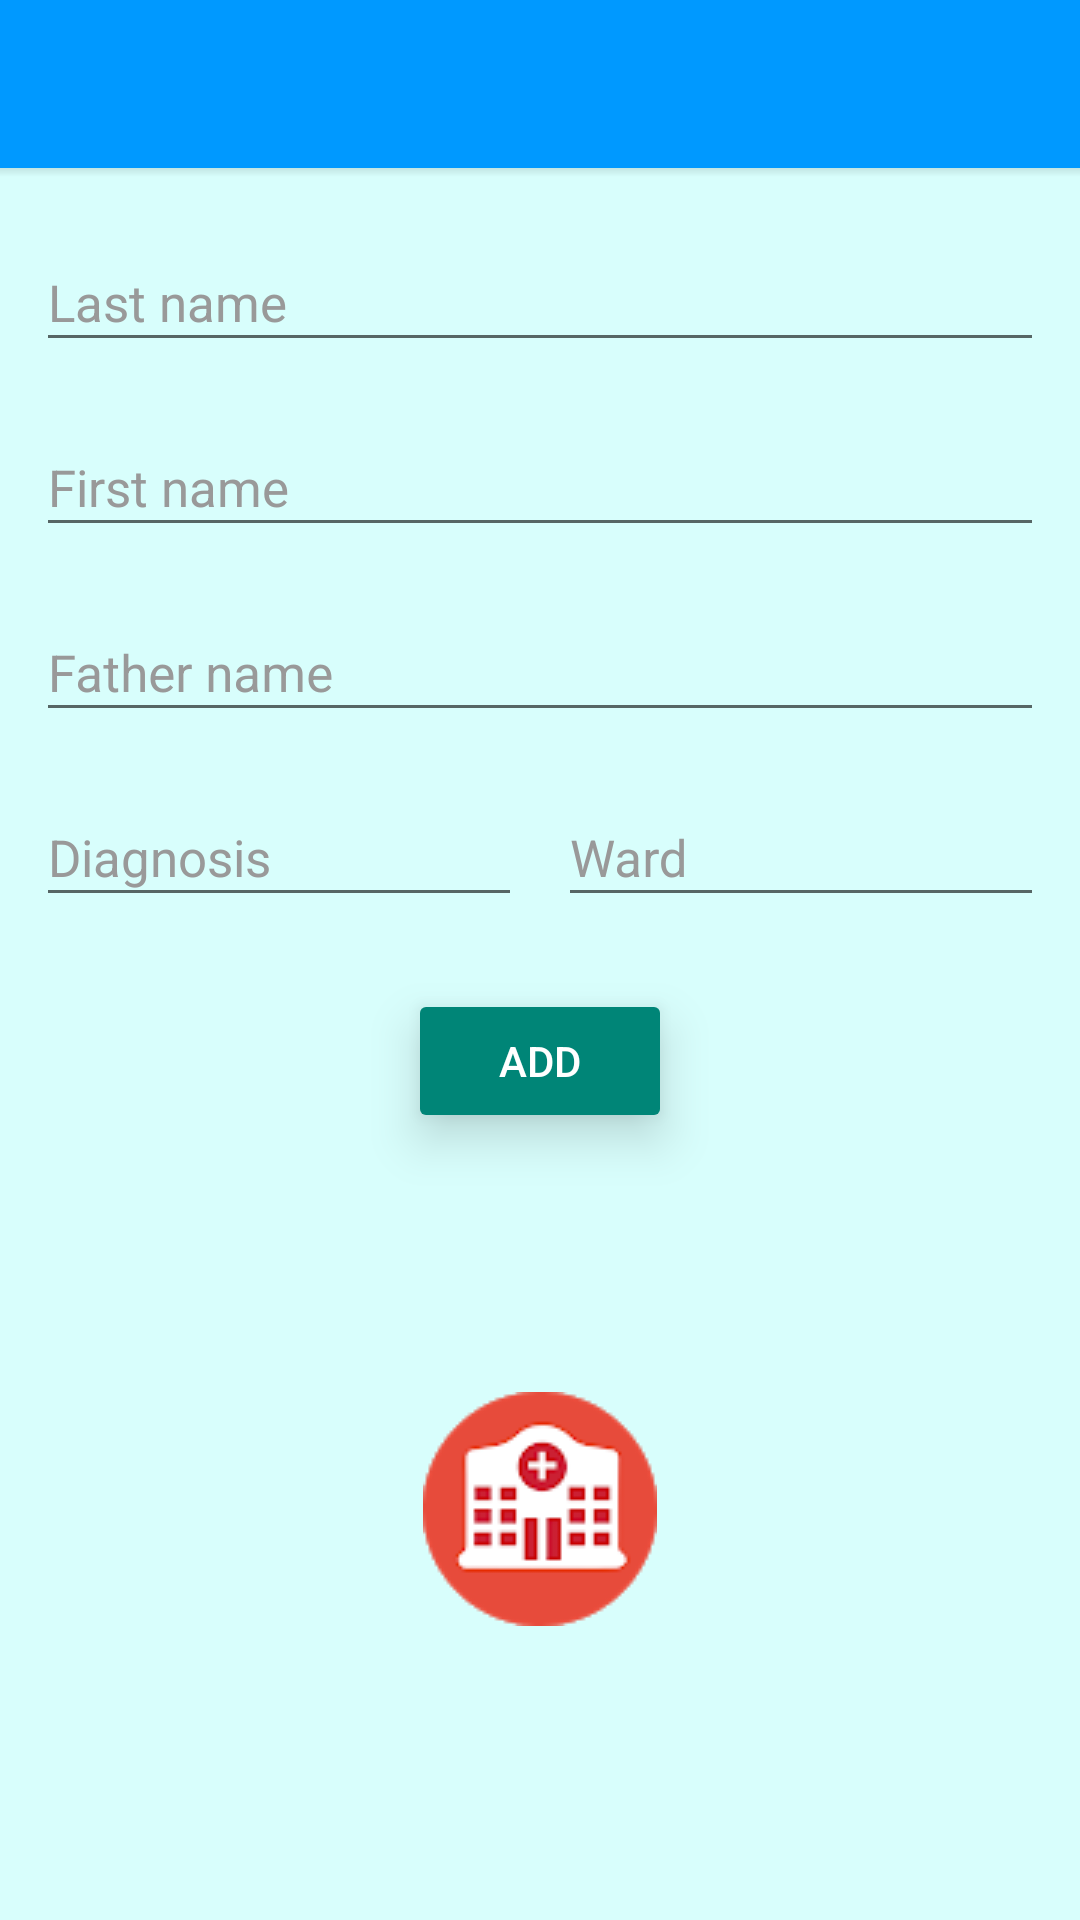

Where to tap for icons on this 1080*1920 app screen, as point (x, y):
polyc main: point (540, 1509)
